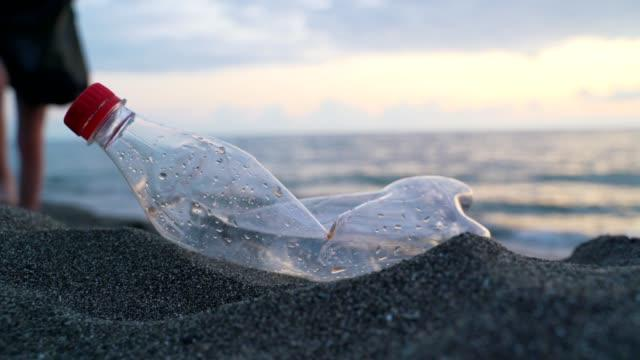bottle: (55, 61, 498, 336)
